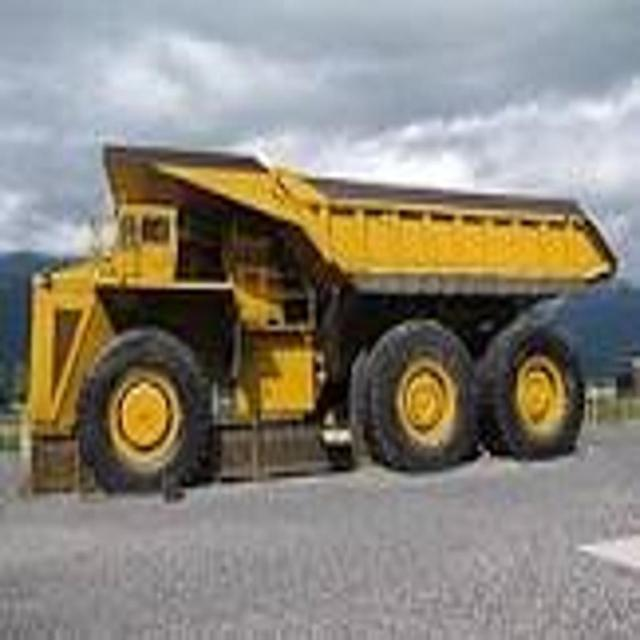dump_truck: (26, 127, 620, 497)
